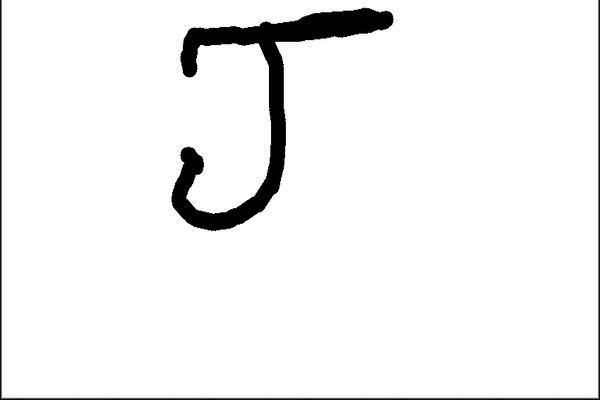J: (156, 5, 400, 234)
